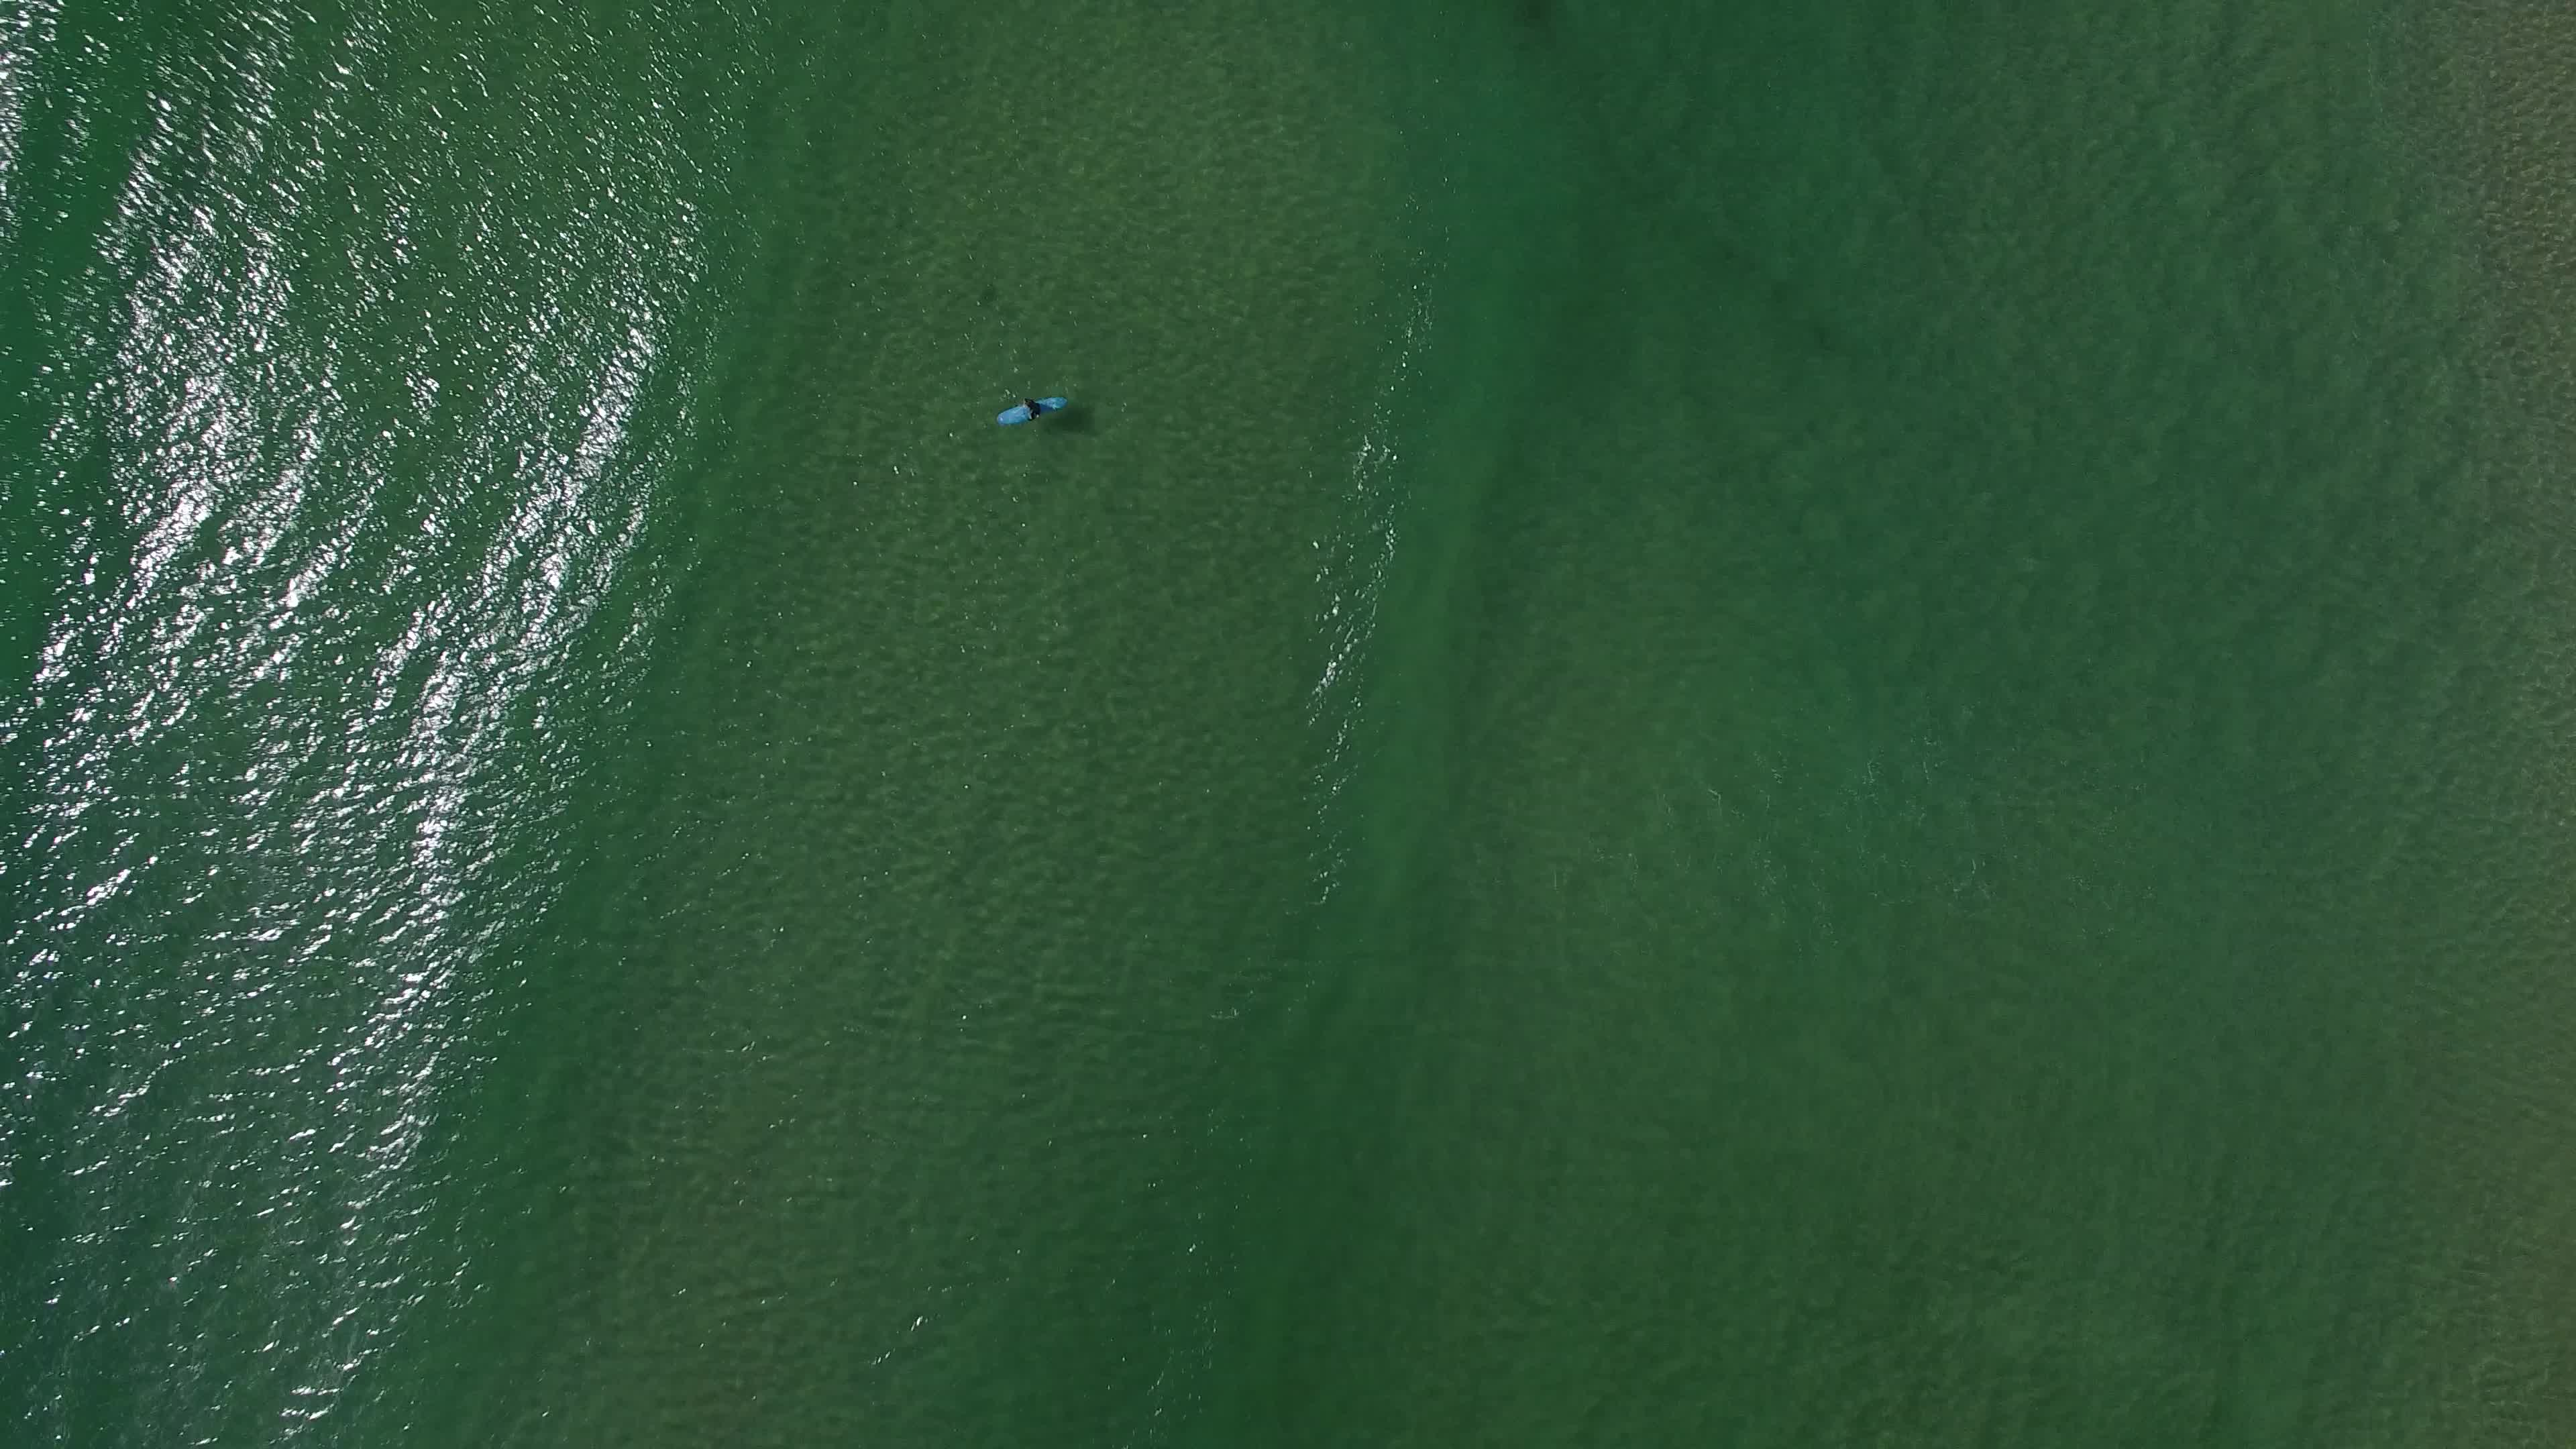surfer: (985, 377, 1076, 430)
